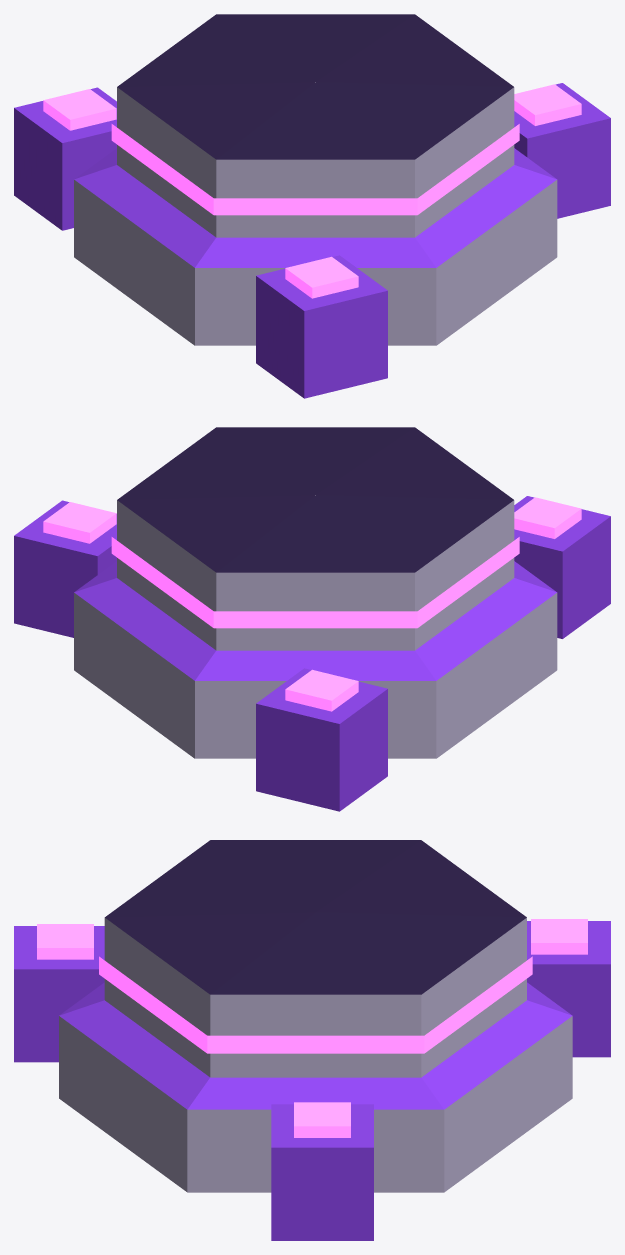
Rendered from rts.depot.glb.
3 renders of one model, top to bottom at view 1: azimuth 30°, elevation 25°; view 2: azimuth 150°, elevation 25°; view 3: azimuth 270°, elevation 25°, orthographic. The views are drawn at different scales.
Parts seen in each view (by area): view 1: rts.depot; view 2: rts.depot; view 3: rts.depot.
Boxes of the visible parts, x1,y1,x2,y2 form: rts.depot: (14, 14, 610, 398); rts.depot: (14, 427, 610, 811); rts.depot: (14, 840, 610, 1240).
Size of the model in its own units: 1.96 by 0.72 by 2.09.
